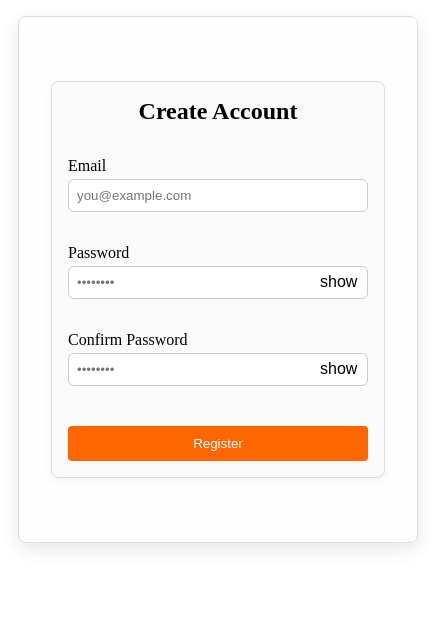
Test: Register Component › submits form successfully
The image size is (437, 618).
Type "test@example.com" into the field labelled "Email" at coordinates (218, 196), box [68,179,368,212]
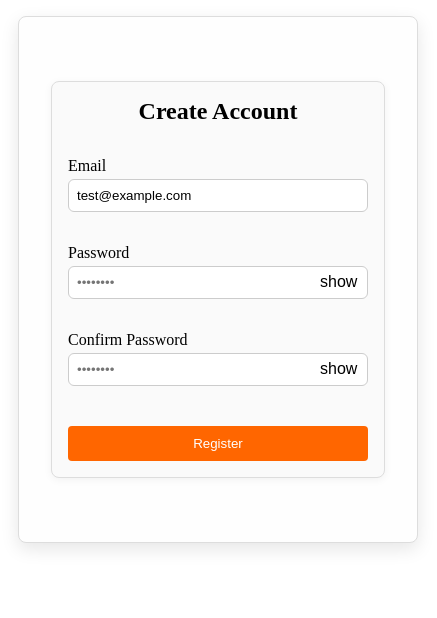
Type "Password123!" into the password field labelled "Password" at coordinates (218, 282), box [68,266,368,299]
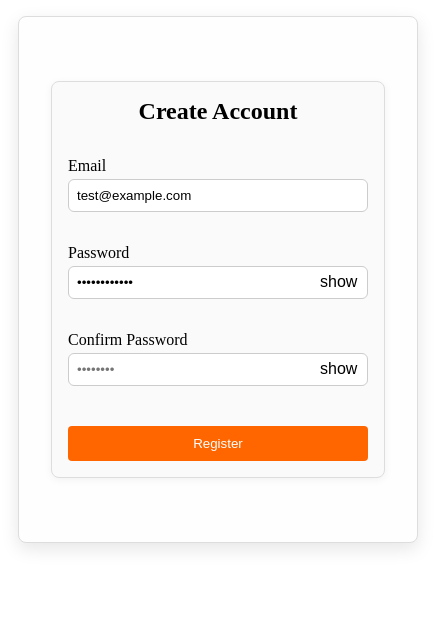
Type "Password123!" into the password field labelled "Confirm Password" at coordinates (218, 370), box [68,353,368,386]
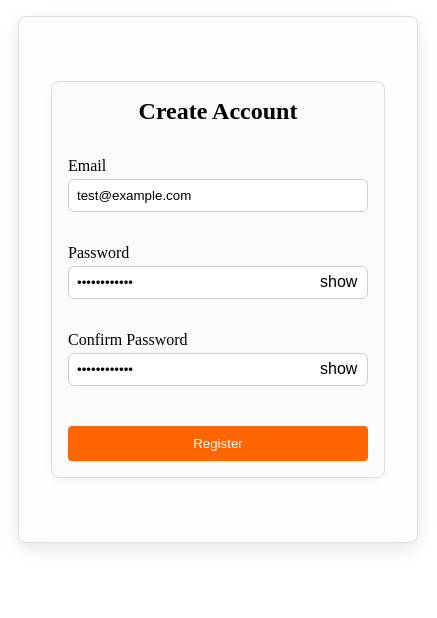
Click the button "Register" at coordinates (218, 444), box [68,426,368,461]
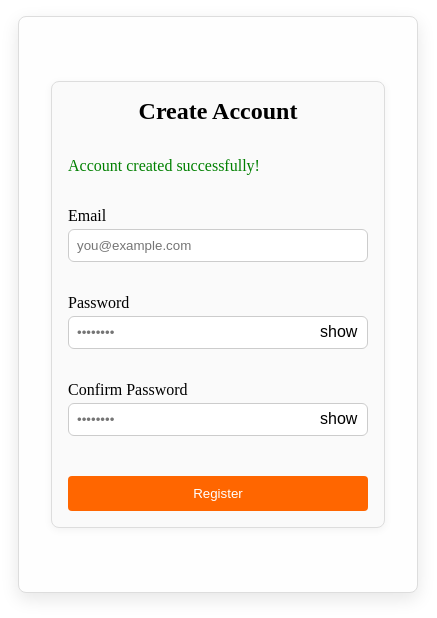
Now the text "Account created successfully!" is shown, box [68,157,260,174]
